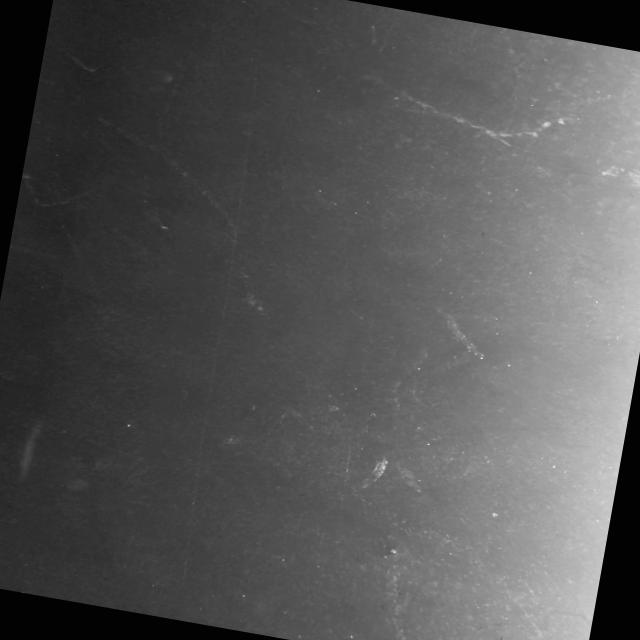beta: (75, 114, 251, 226), (387, 82, 581, 162), (0, 396, 176, 473), (363, 538, 439, 640), (15, 162, 96, 216)
